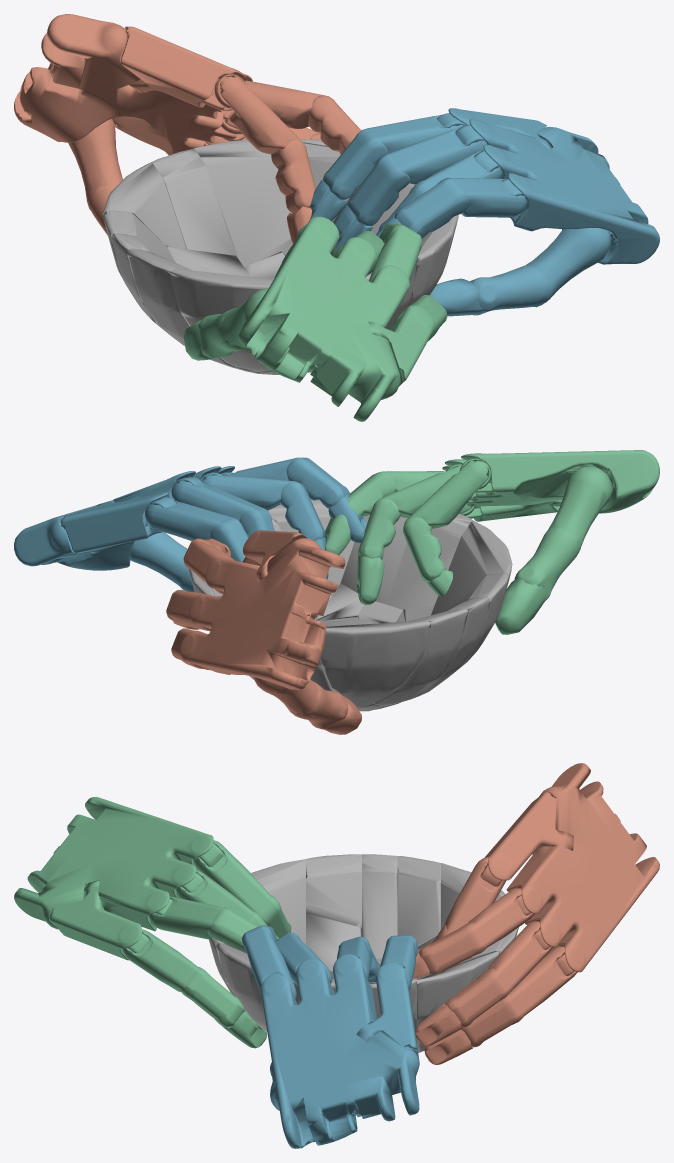
3 views of the same model, one above another, from view 1: azimuth 30°, elevation 25°; view 2: azimuth 150°, elevation 25°; view 3: azimuth 270°, elevation 25° (orthographic). The views are drawn at different scales.
Size of the model in its own units: 0.3147 by 0.1478 by 0.3743.
